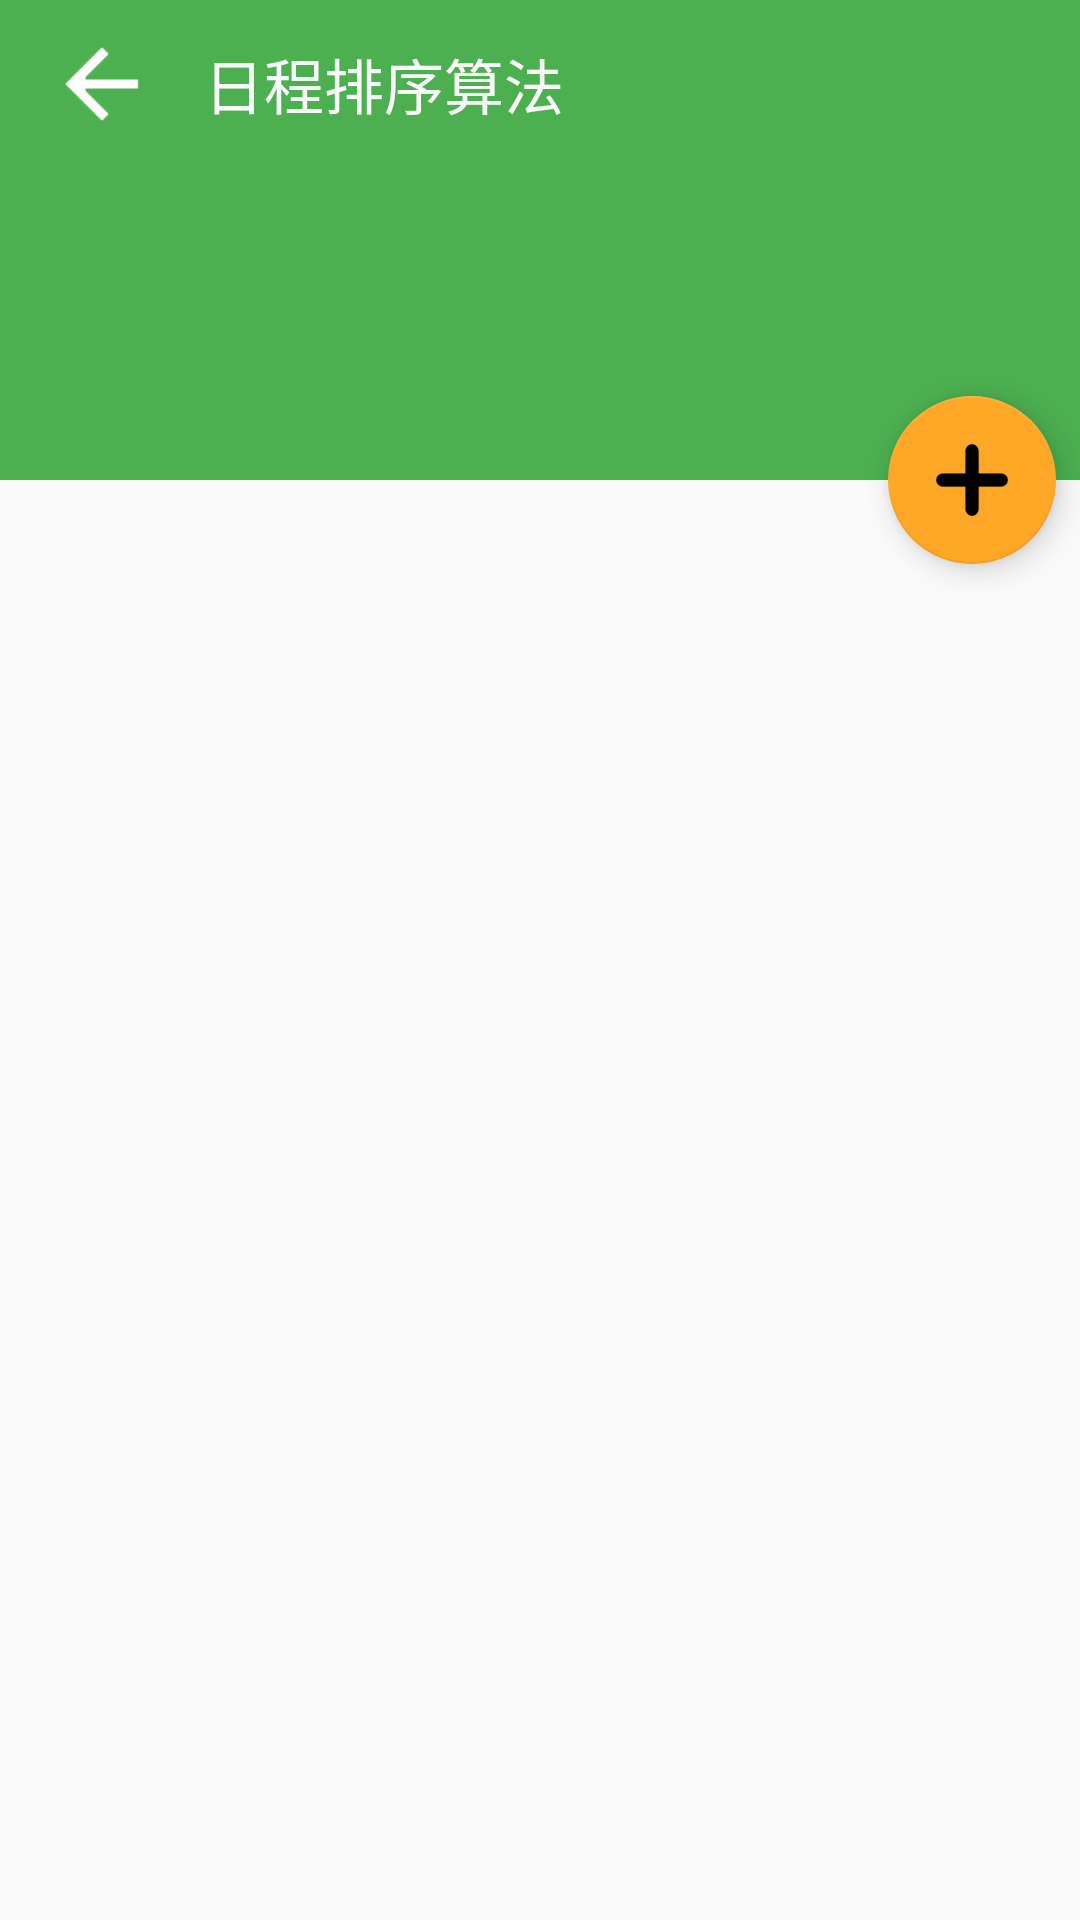

Point at icon controls on the screen. Image size 1080 × 1920, points as (x,y).
arrow left: (102,84)
plus: (972,480)
